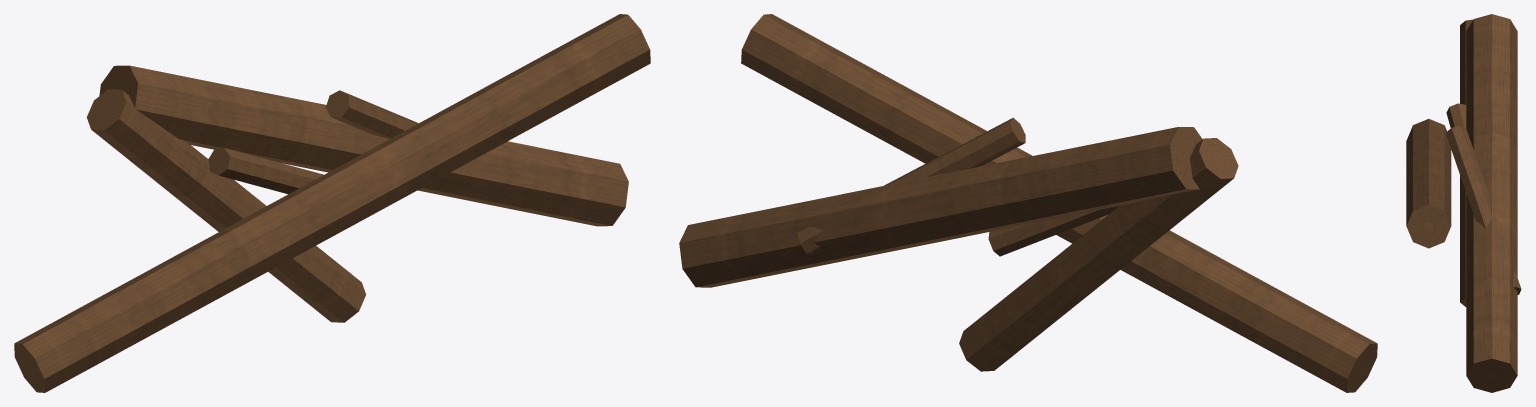
File: en-006_driftwood_cluster__small.obj
3 views of the same model, side by side, from view 1: azimuth 30°, elevation 25°; view 2: azimuth 150°, elevation 25°; view 3: azimuth 270°, elevation 25° (orthographic). The views are drawn at different scales.
Visible parts, largest first — view 1: en-006_driftwood_cluster__small; view 2: en-006_driftwood_cluster__small; view 3: en-006_driftwood_cluster__small.
Boxes of the visible parts, x1,y1,x2,y2 form: en-006_driftwood_cluster__small: (14,14,650,392); en-006_driftwood_cluster__small: (679,14,1377,392); en-006_driftwood_cluster__small: (1406,14,1521,392).
Size of the model in its own units: 1.32 by 0.5864 by 0.2728.
1 material, 1 textured.
